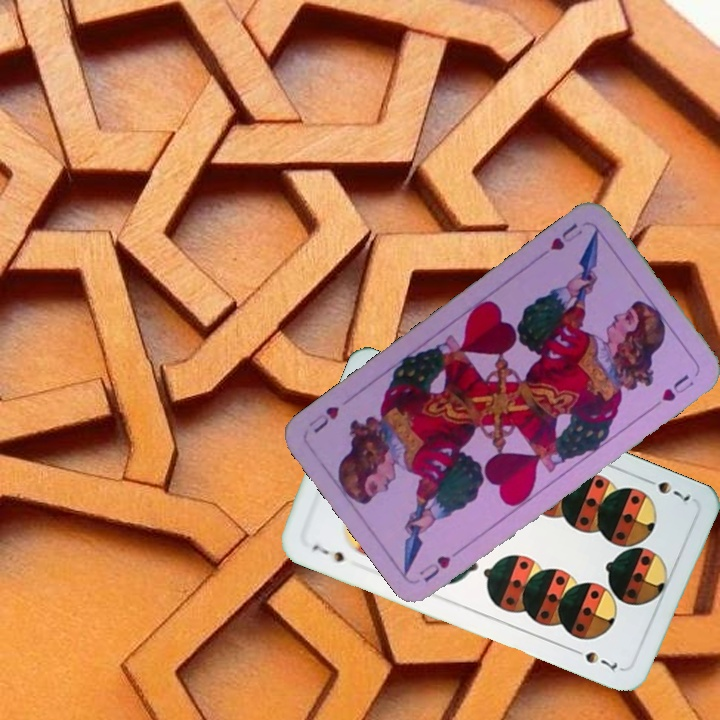HU: (546, 219, 586, 254), (415, 551, 453, 585)
S7: (639, 474, 694, 504), (308, 540, 347, 565)
